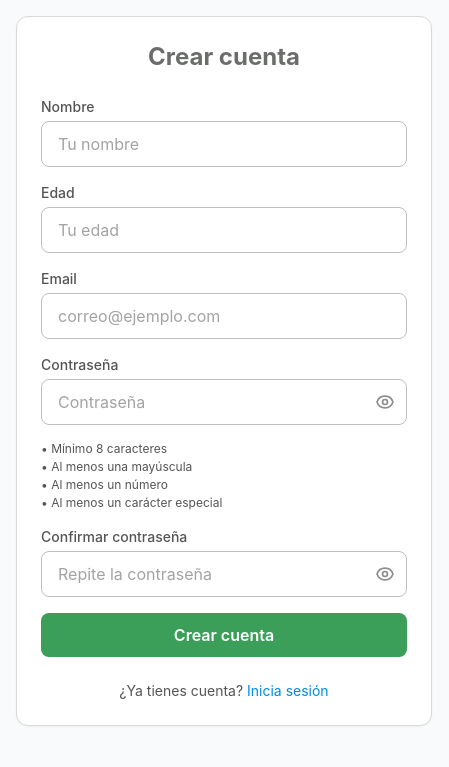
Register › shows invalid email error
The width and height of the screenshot is (449, 767).
Step 1. Type "Test" into the field labelled "Nombre" → (224, 144), box [41,121,407,167]
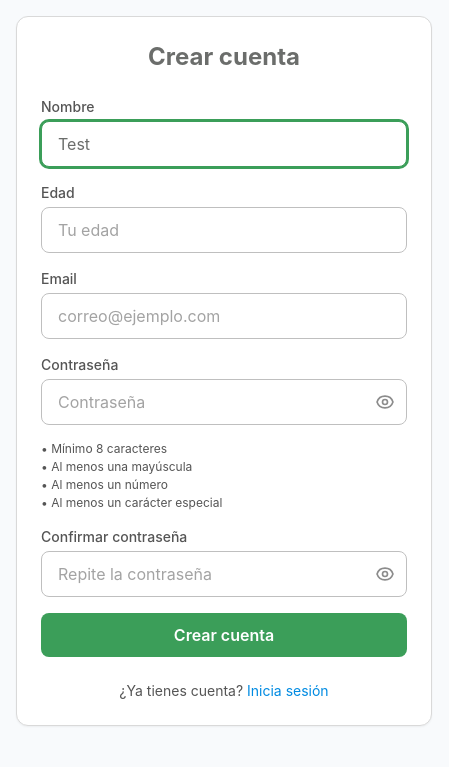
Step 2. Type "25" into the number field labelled "Edad" → (224, 230), box [41,207,407,253]
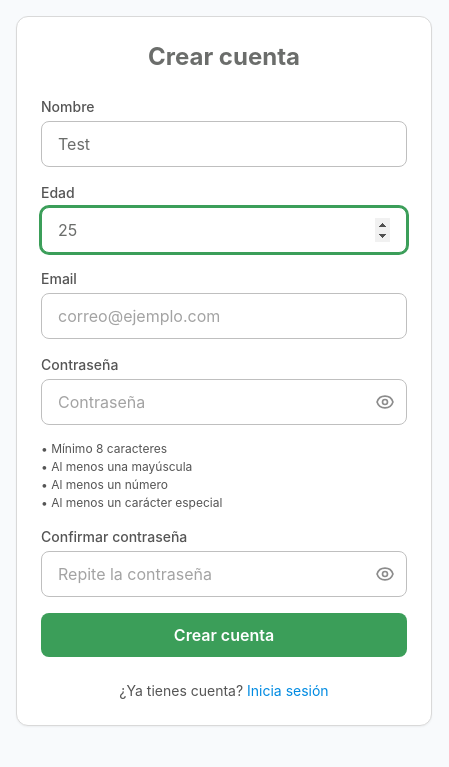
Step 3. Type "invalid-email" into the field labelled "Email" → (224, 316), box [41,293,407,339]
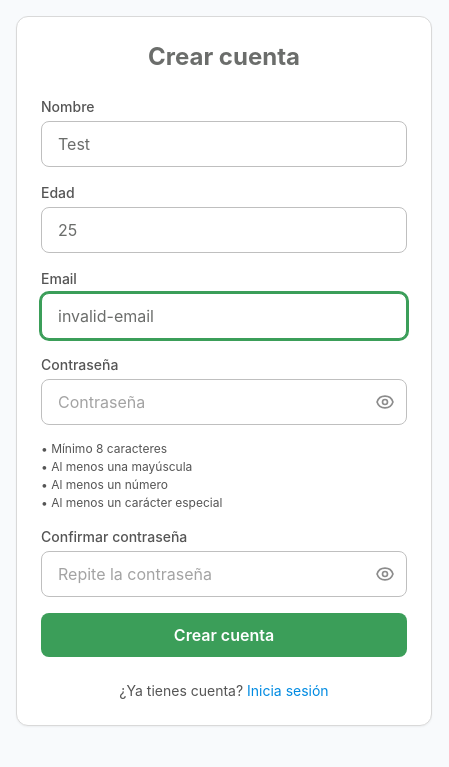
Step 4. Type "Password1!" into the password field labelled "Contraseña" → (224, 402), box [41,379,407,425]
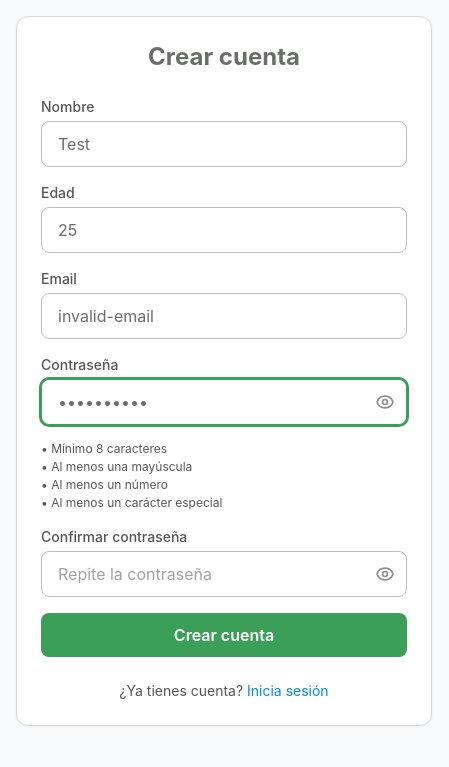
Step 5. Type "Password1!" into the password field labelled "Confirmar contraseña" → (224, 574), box [41,551,407,597]
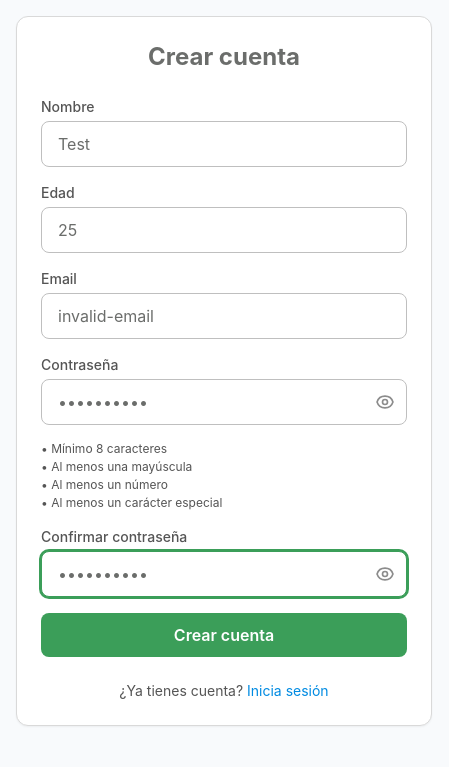
Step 6. Submit the form named "crear cuenta", box [41,97,407,657]
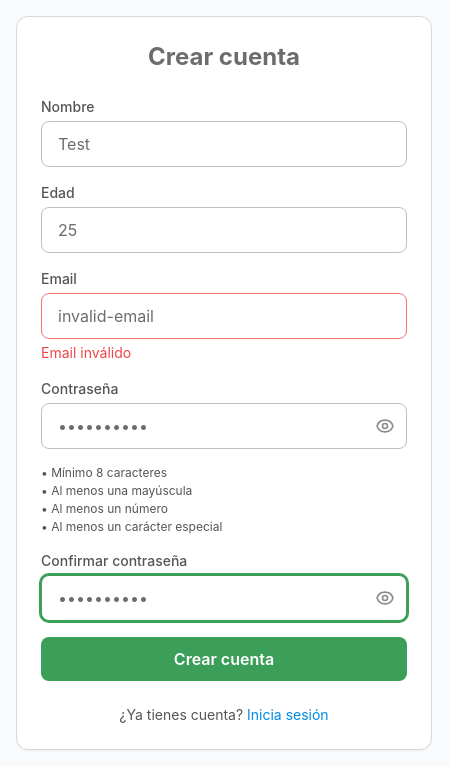
expect the text "Email inválido" is shown: met, box [41,344,131,361]
